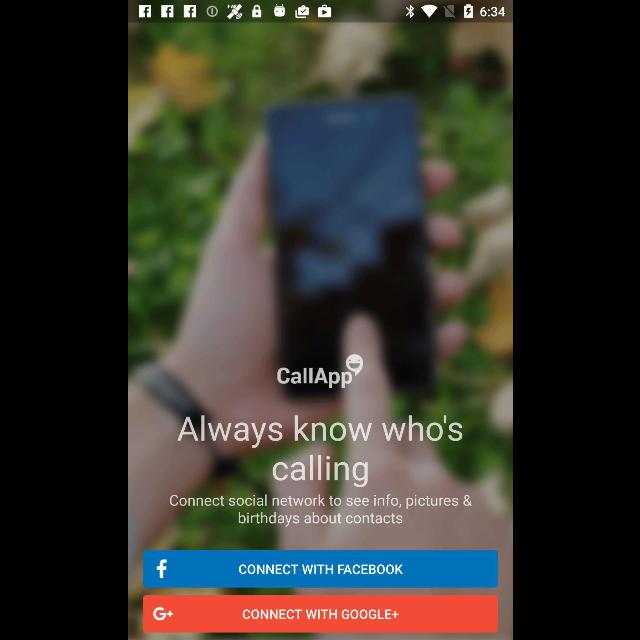backgroundimage: (128, 22, 512, 640)
image: (276, 354, 364, 388)
text: (176, 414, 462, 488), (169, 494, 471, 528)
textbutton: (142, 595, 498, 633), (142, 550, 498, 588)
uppertaskbar: (128, 1, 512, 23)
